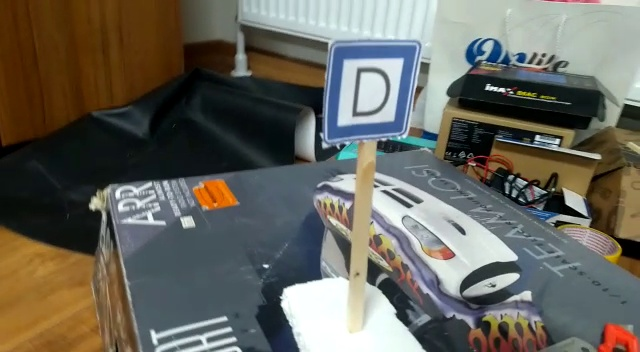durak: (327, 46, 412, 146)
